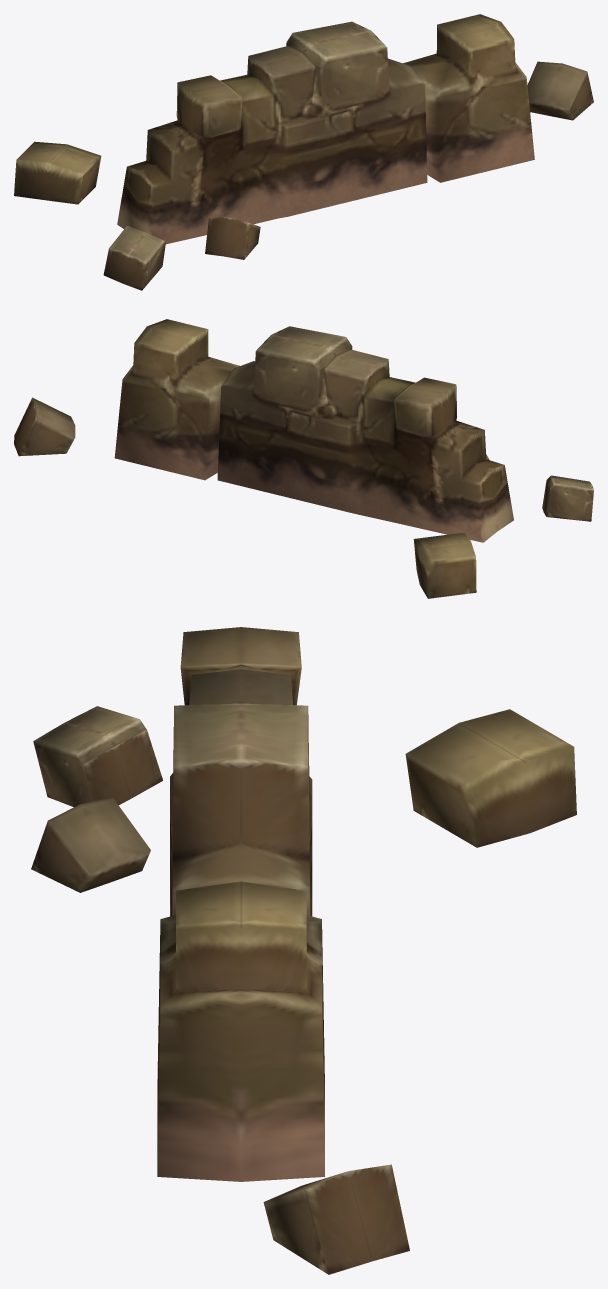
The model's file is FB5_shamoqianti_01.FBX.
The picture shows the model from 3 angles, top to bottom: view 1: azimuth 30°, elevation 25°; view 2: azimuth 150°, elevation 25°; view 3: azimuth 270°, elevation 25°; orthographic projection. The views are drawn at different scales.
Visible parts, largest first — view 1: FB5_shamoqianti_01; view 2: FB5_shamoqianti_01; view 3: FB5_shamoqianti_01.
Boxes of the visible parts, <box> form: FB5_shamoqianti_01: <box>14,14,593,290</box>; FB5_shamoqianti_01: <box>14,319,593,598</box>; FB5_shamoqianti_01: <box>31,627,576,1274</box>.
Bounding box in the file's own units: 54684 × 14919 × 24719.
Materials: 1 (1 with a texture image).
